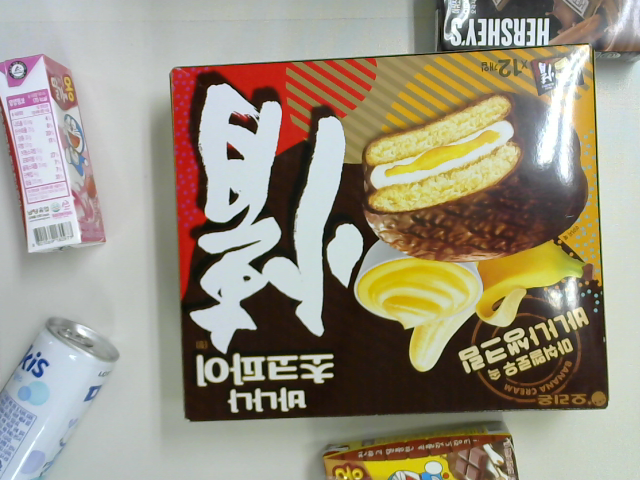Choco_E_Mong: (322, 421, 519, 480)
Choco_Pie_Banana: (167, 43, 609, 423)
Milkies_250ml: (1, 317, 121, 480)
Strawberry_E_Mong: (1, 56, 106, 253)
